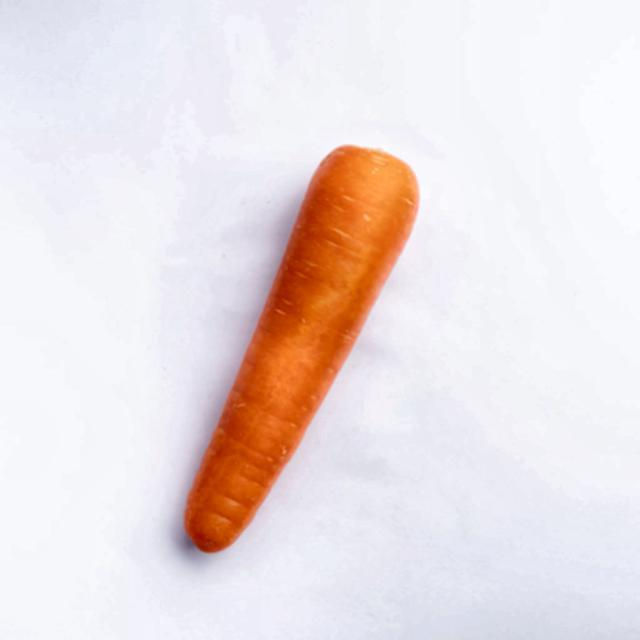carrot: (185, 146, 419, 552)
